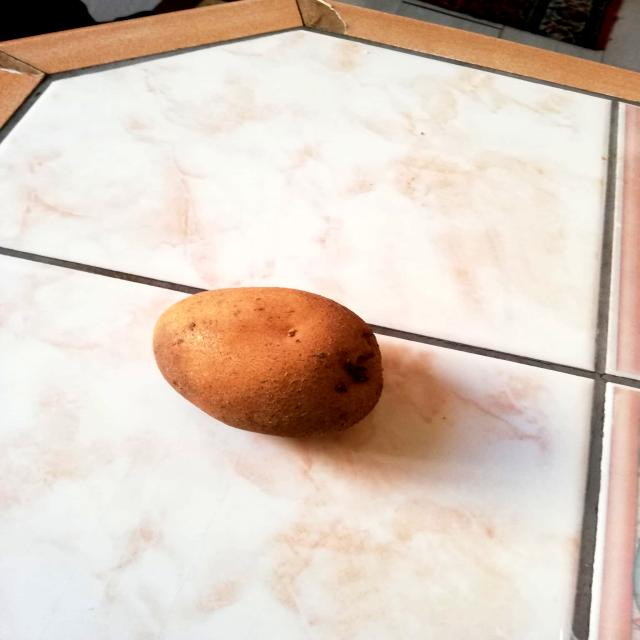potato: (147, 270, 392, 444)
